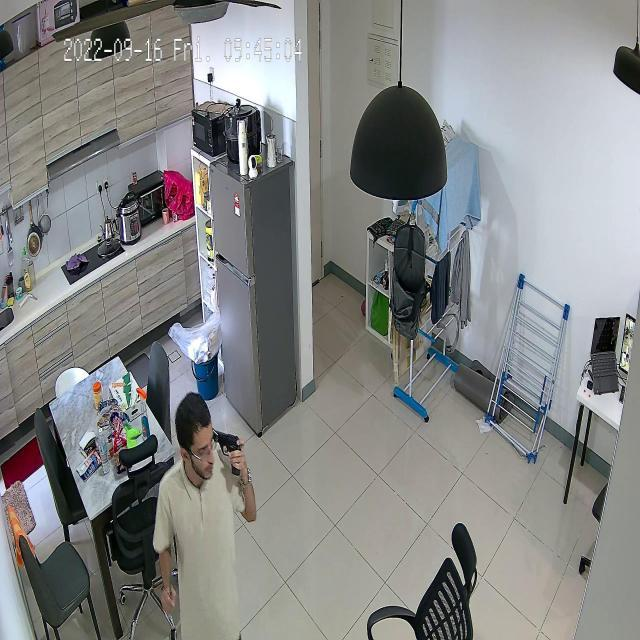Gun: (216, 421, 253, 493)
